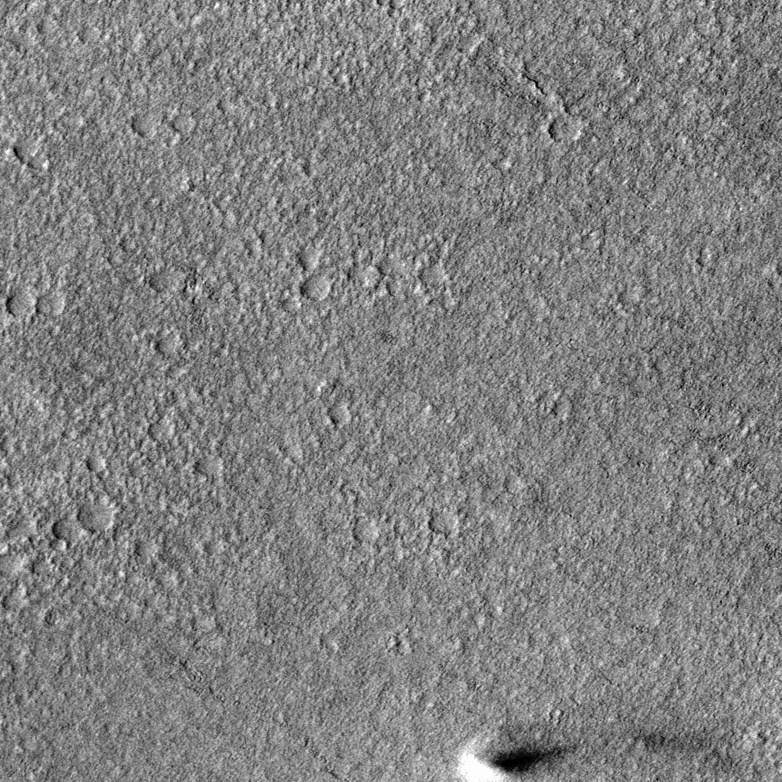dust_devil: (454, 726, 575, 782)
